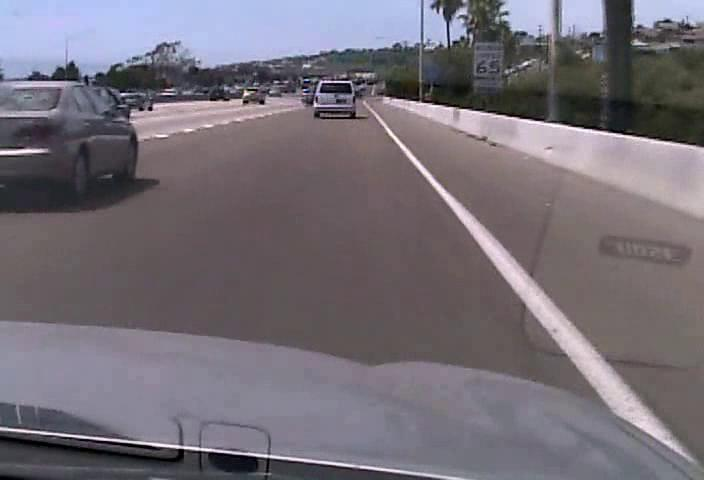speedLimit65: (472, 40, 505, 78)
